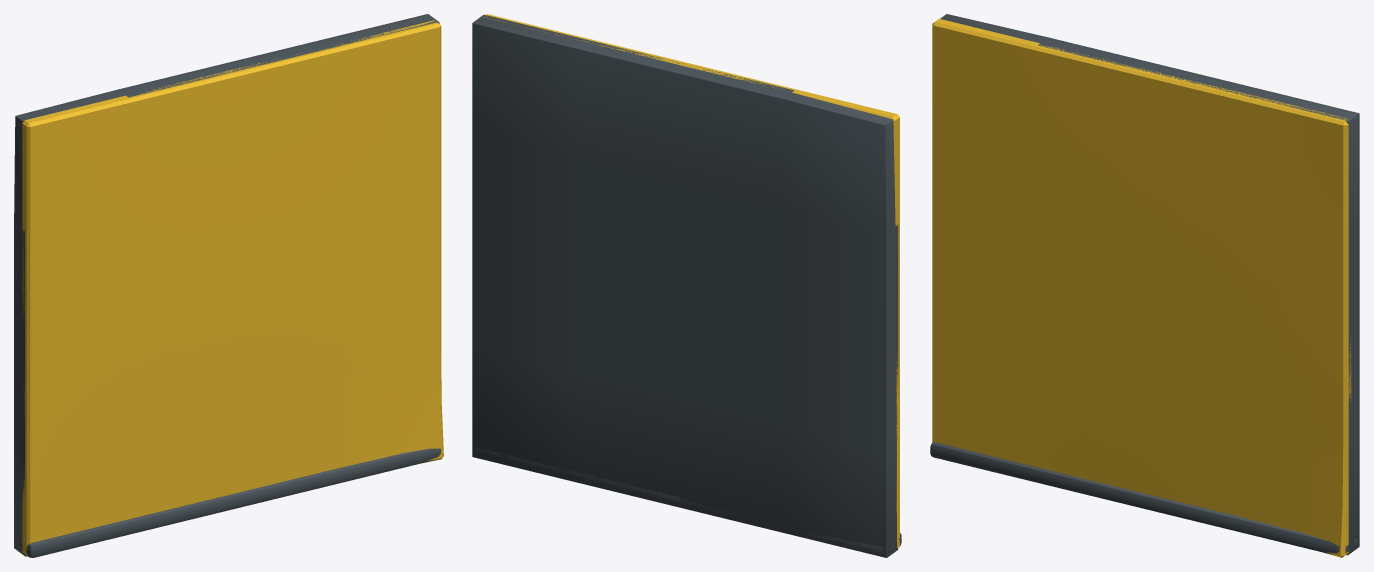
The model's file is sign_board.glb.
3 views of the same model, side by side, from view 1: azimuth 30°, elevation 25°; view 2: azimuth 150°, elevation 25°; view 3: azimuth 330°, elevation 25° (orthographic).
Visible parts, largest first — view 1: Board, Frame; view 2: Frame, Board; view 3: Board, Frame.
Boxes of the visible parts, x1,y1,x2,y2 form: Board: (22, 20, 443, 555); Frame: (14, 14, 441, 557); Frame: (472, 14, 901, 557); Board: (483, 14, 899, 547); Board: (932, 18, 1351, 557); Frame: (930, 14, 1359, 555).
Size of the model in its own units: 1 by 1 by 0.0711.
